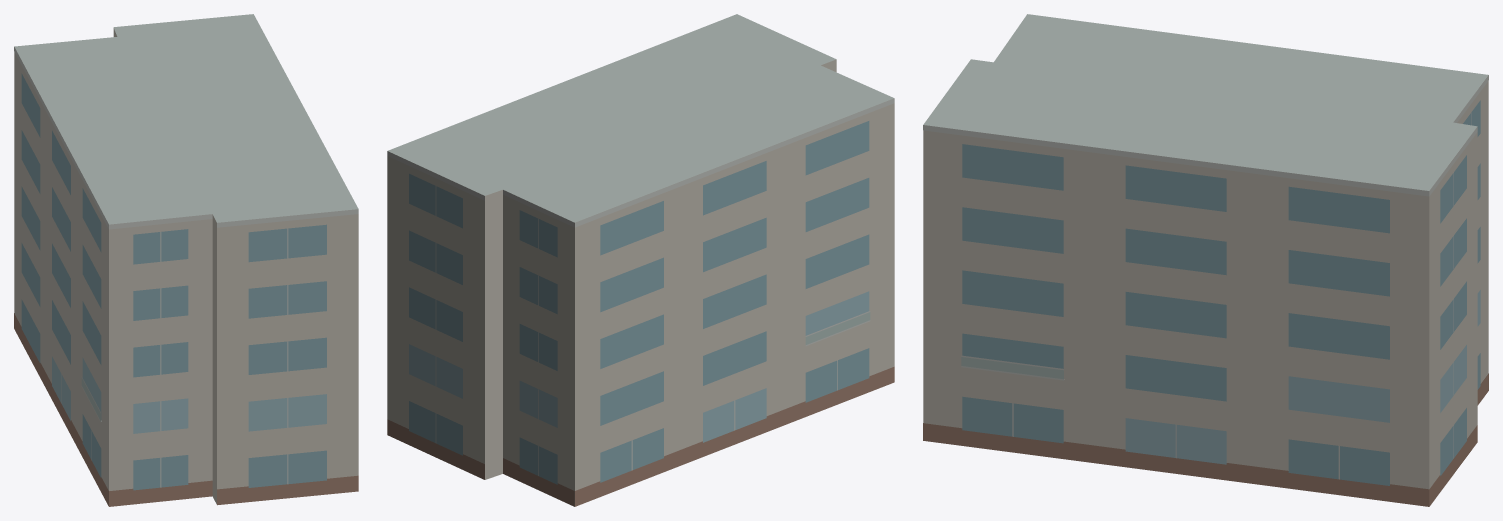
File: survey-upis-32869378.glb
3 renders of one model, left to right at view 1: azimuth 30°, elevation 25°; view 2: azimuth 150°, elevation 25°; view 3: azimuth 270°, elevation 25°, orthographic. The views are drawn at different scales.
Visible parts, largest first — view 1: survey-upis-32869378.tmp; view 2: survey-upis-32869378.tmp; view 3: survey-upis-32869378.tmp.
Part boxes in pixels (left/top/right/bottom): survey-upis-32869378.tmp: left=14, top=14, right=358, bottom=506; survey-upis-32869378.tmp: left=387, top=14, right=894, bottom=506; survey-upis-32869378.tmp: left=923, top=14, right=1488, bottom=506.
Size of the model in its own units: 16.9 by 14.05 by 22.82.
